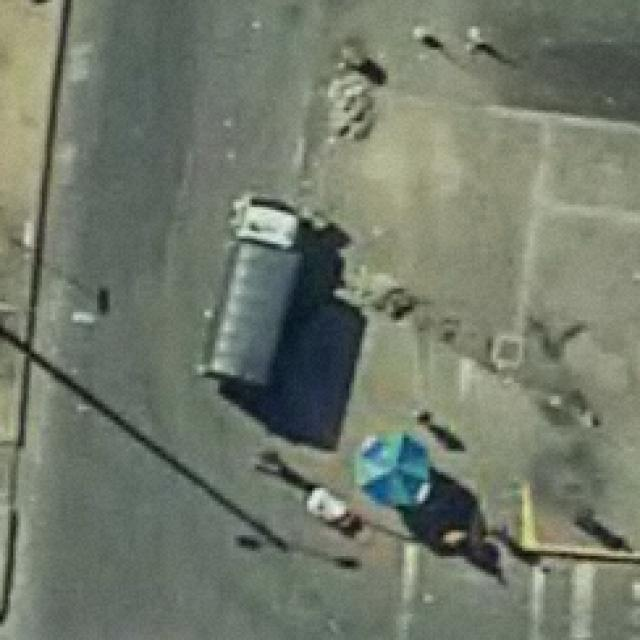vendedor_ambulante: (349, 427, 434, 513)
